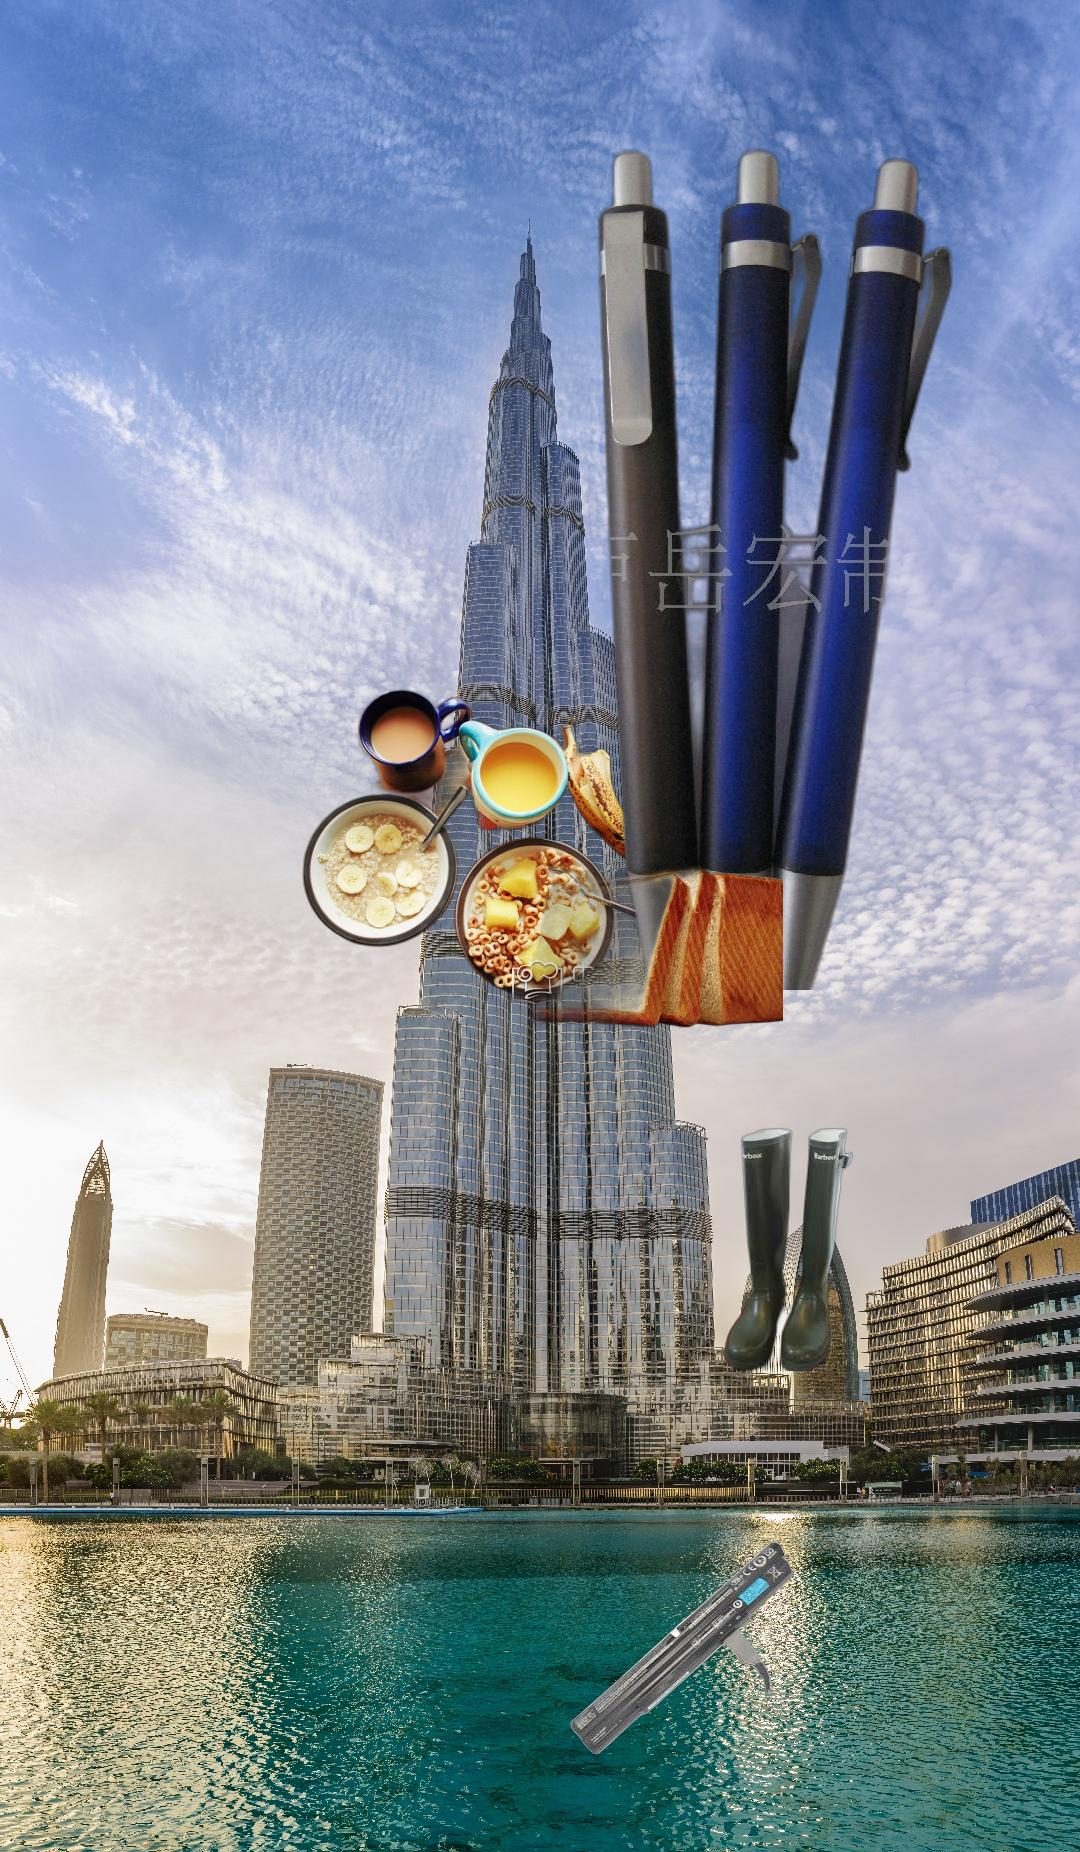battery: (570, 1538, 795, 1757)
biological: (300, 688, 689, 1008), (532, 852, 783, 1053)
penholder: (591, 141, 959, 990)
shoes: (723, 1126, 856, 1371)
